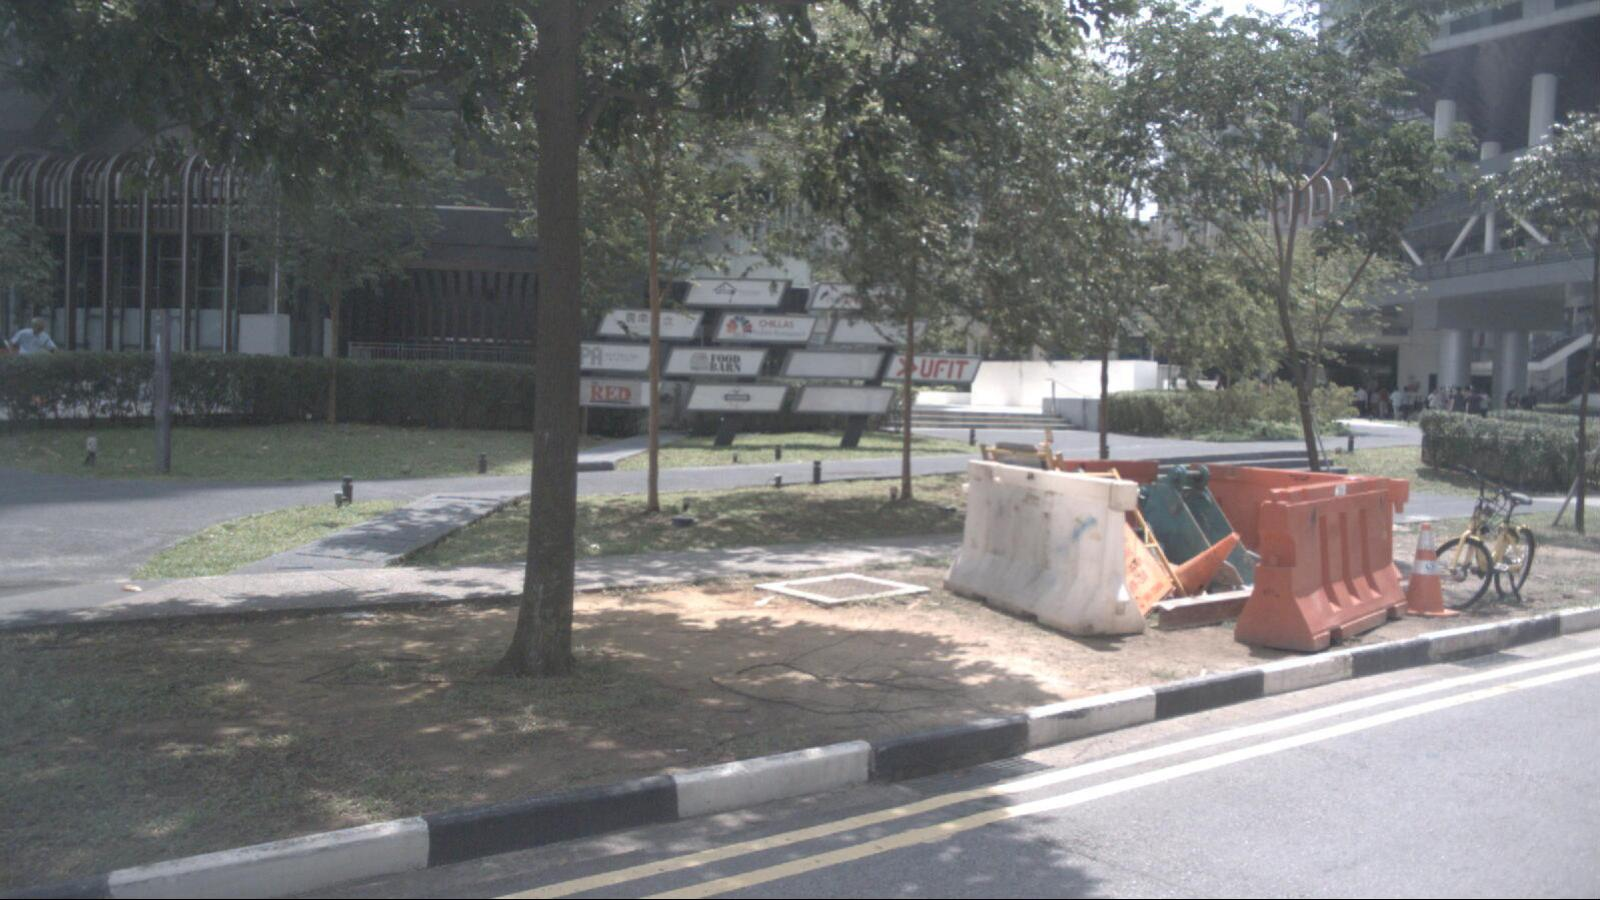human.pedestrian.adult-pedestrian.moving: (1464, 389, 1481, 432), (1447, 387, 1464, 432), (1431, 387, 1448, 426), (1519, 389, 1536, 424), (1476, 390, 1491, 428), (1387, 388, 1402, 422), (1425, 389, 1440, 424), (1503, 392, 1519, 424), (1398, 386, 1411, 422), (1353, 385, 1367, 418), (1376, 387, 1390, 419), (1461, 386, 1473, 422), (1410, 390, 1420, 422), (1368, 388, 1377, 418)
human.pedestrian.adult-pedestrian.standing: (8, 318, 65, 411)
